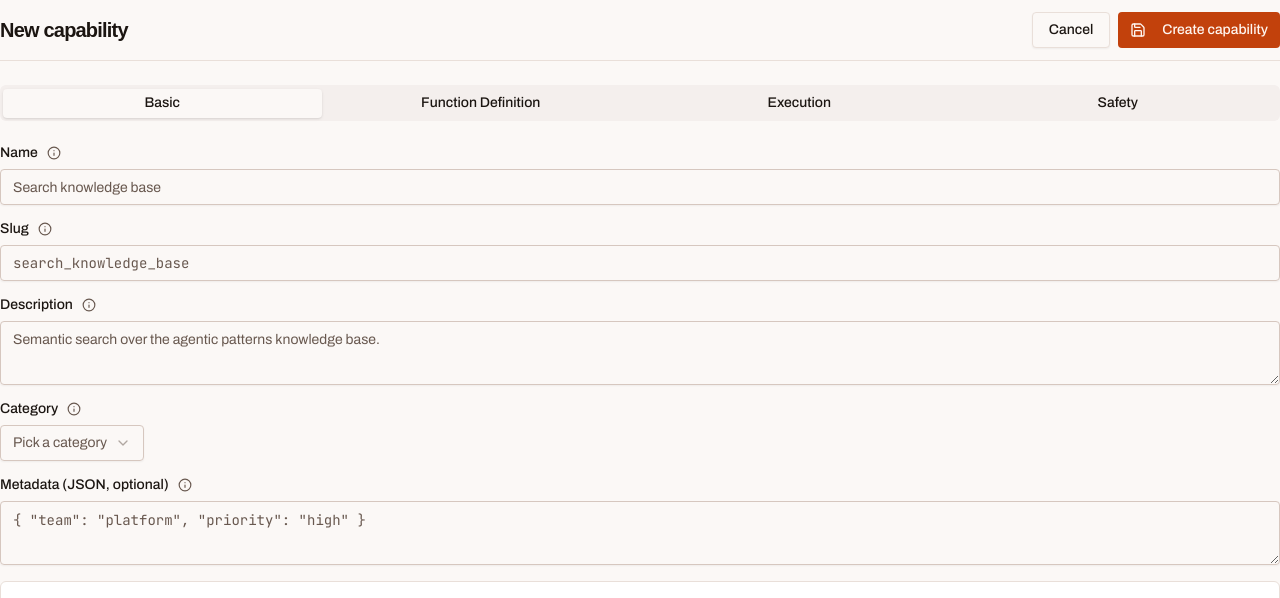
Test: CapabilityForm — Function Definition tab › visual builder › adding two parameters shows two rows
Step 1. Click the tab "Function Definition" → click(481, 103), box top-left (322, 88), bottom-right (640, 118)
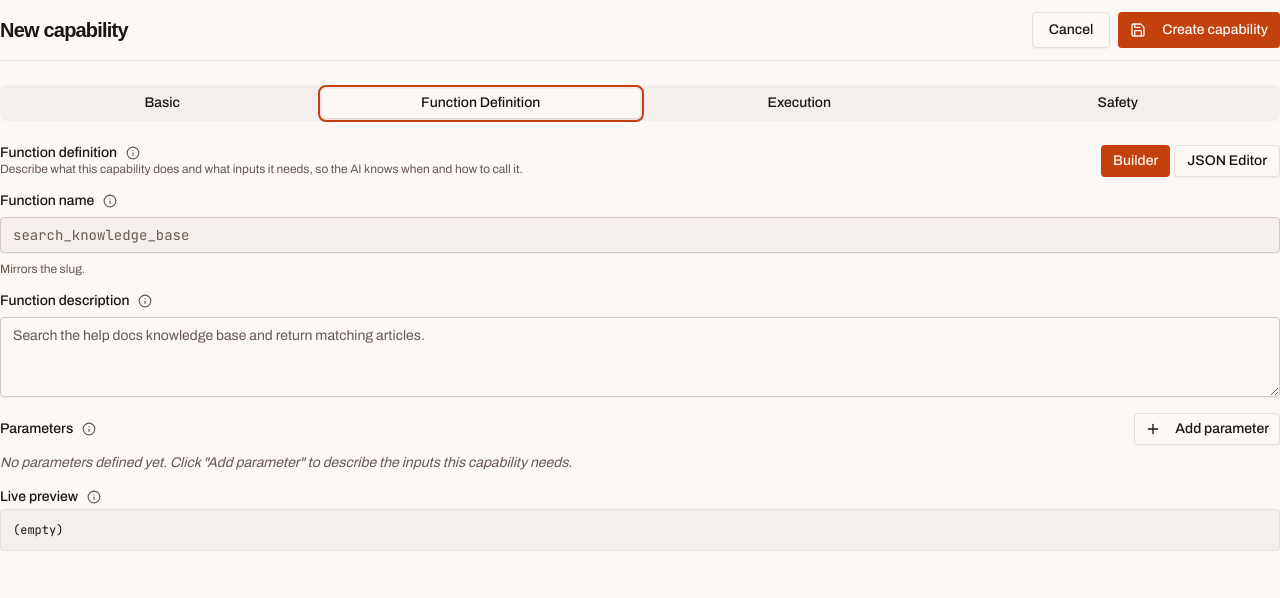
Step 2. Click the button "Add parameter" → click(1207, 429), box top-left (1134, 413), bottom-right (1279, 445)
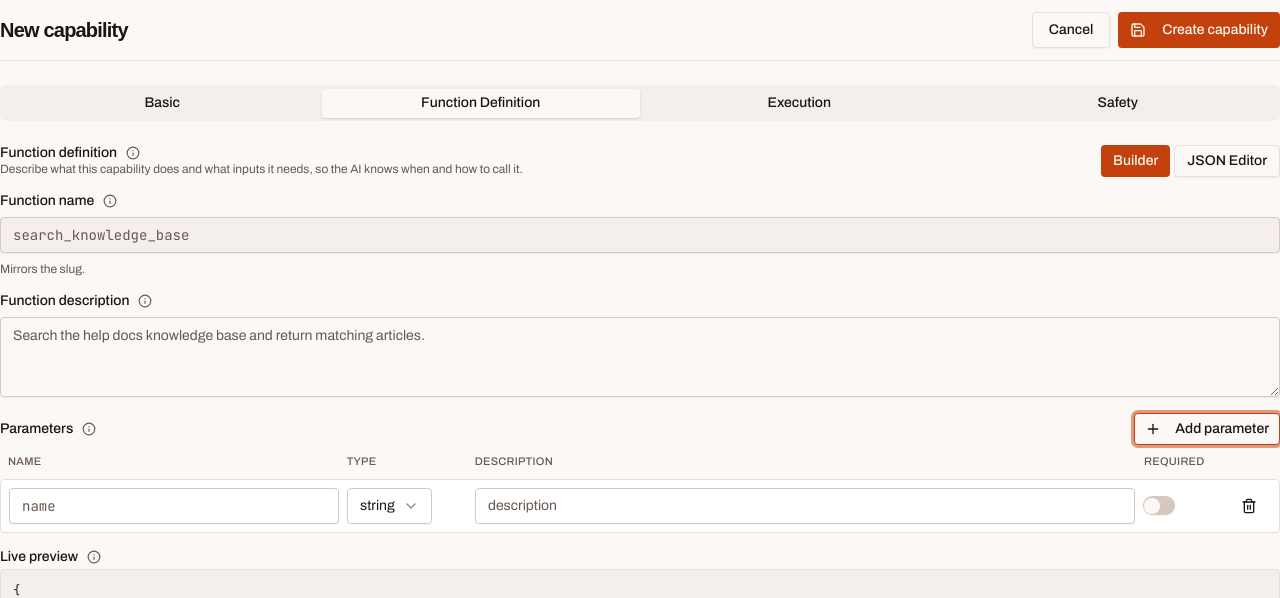
Step 3. Click the button "Add parameter" → click(1207, 429), box top-left (1134, 413), bottom-right (1279, 445)
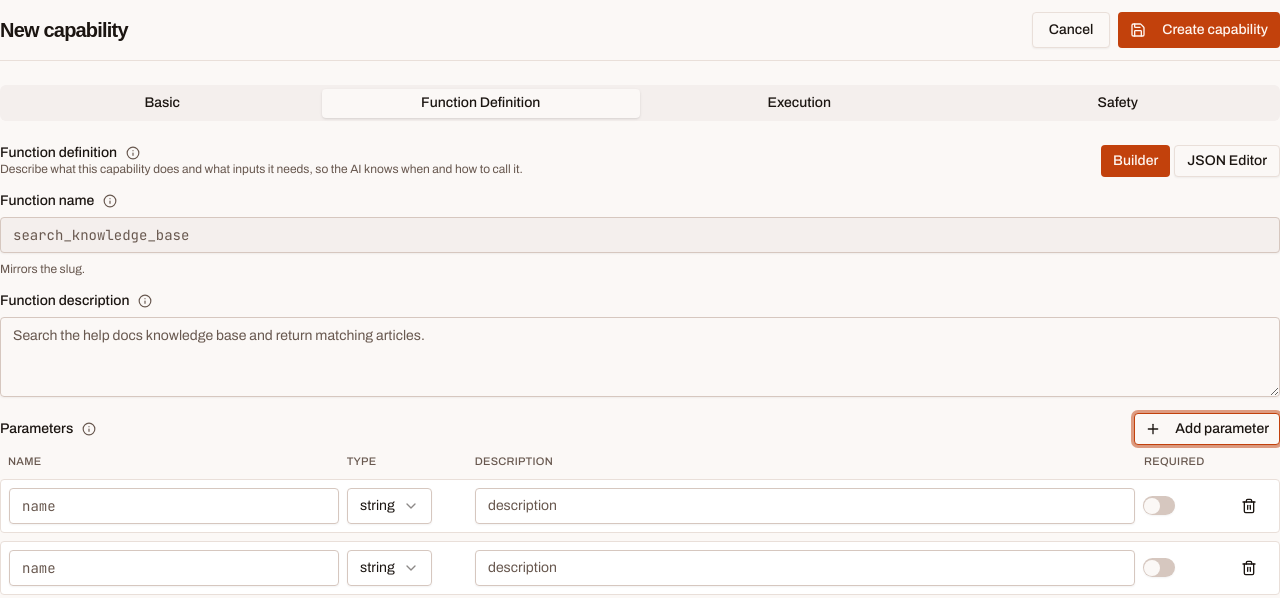
Result: the number of fields with placeholder "name" is 2 at top-left (9, 488), bottom-right (339, 524); top-left (9, 550), bottom-right (339, 586)
